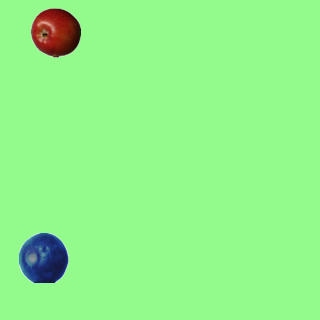Apple Braeburn: (30, 7, 80, 57)
Huckleberry: (18, 232, 68, 282)
